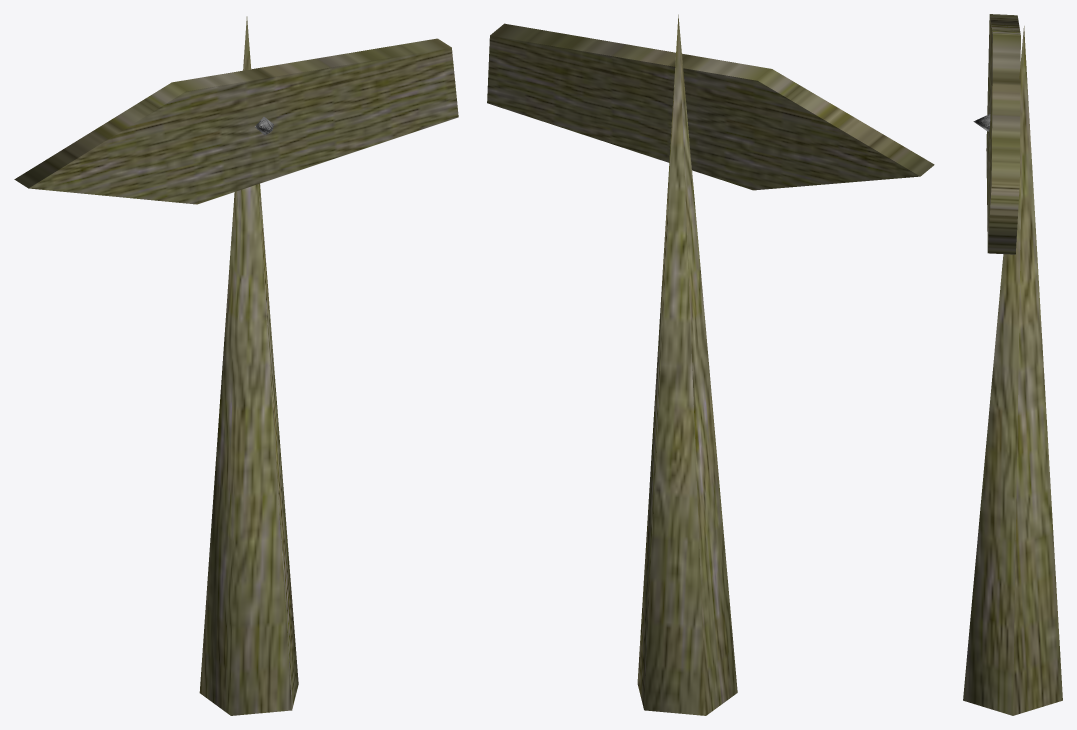
Rendered from guidepost02.obj.
3 views of the same model, side by side, from view 1: azimuth 30°, elevation 25°; view 2: azimuth 150°, elevation 25°; view 3: azimuth 270°, elevation 25° (orthographic). The views are drawn at different scales.
Parts seen in each view (by area): view 1: Cylinder01, Cylinder02; view 2: Cylinder01, Cylinder02; view 3: Cylinder02, Cylinder01.
Part boxes in pixels (x1=…): Cylinder01: x1=14, y1=38, x2=458, y2=204; Cylinder02: x1=199, y1=16, x2=298, y2=715; Cylinder01: x1=487, y1=23, x2=934, y2=190; Cylinder02: x1=637, y1=14, x2=737, y2=715; Cylinder02: x1=963, y1=26, x2=1062, y2=715; Cylinder01: x1=986, y1=14, x2=1020, y2=254.
Bounding box in the file's own units: 33 × 49.75 × 6.74.
